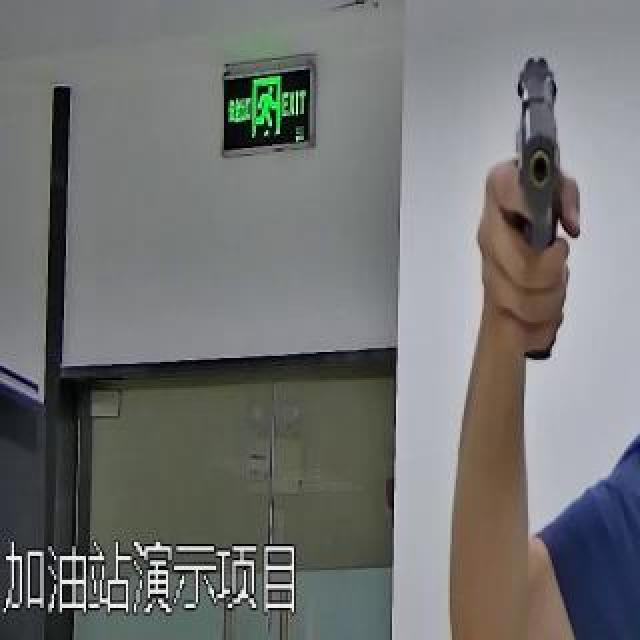Guns: (485, 17, 593, 357)
